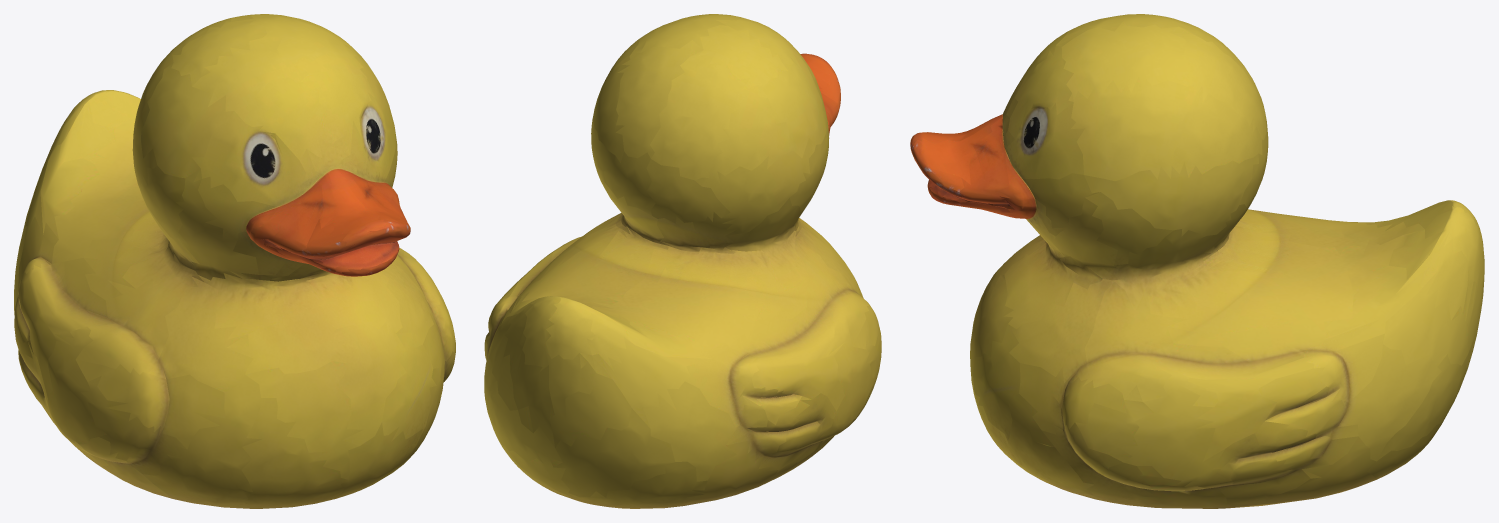
The model's file is paperella_gigante.glb.
3 renders of one model, left to right at view 1: azimuth 30°, elevation 25°; view 2: azimuth 150°, elevation 25°; view 3: azimuth 270°, elevation 25°, orthographic. The views are drawn at different scales.
Visible parts, largest first — view 1: Mesh_0; view 2: Mesh_0; view 3: Mesh_0.
Part boxes in pixels (left/top/right/bottom): Mesh_0: left=14, top=14, right=455, bottom=508; Mesh_0: left=484, top=14, right=881, bottom=508; Mesh_0: left=910, top=14, right=1484, bottom=508.
Bounding box in the file's own units: 1.36 × 1.52 × 1.9.
Materials: 1 (1 with a texture image).
